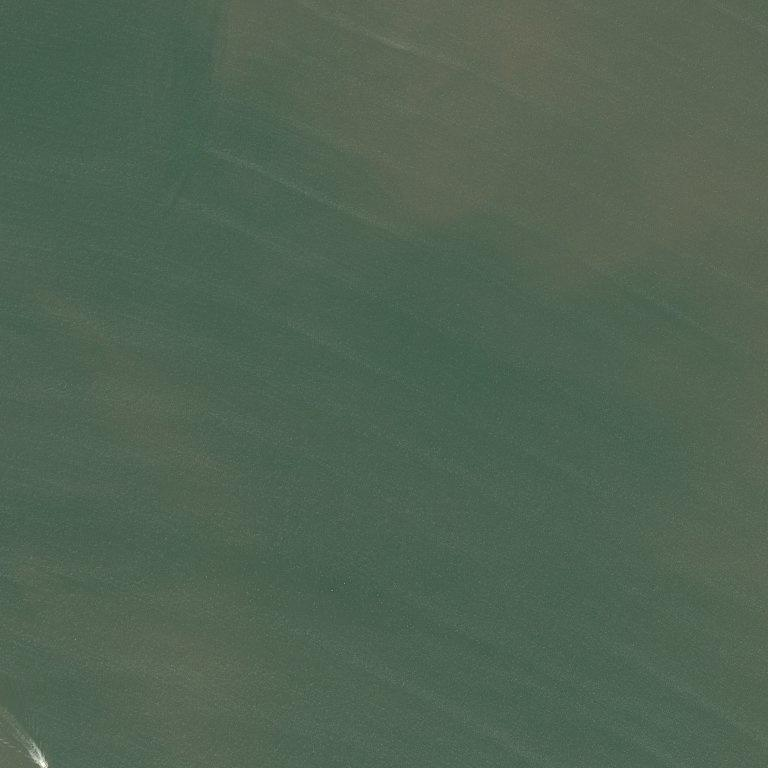ship: (34, 761, 50, 764), (45, 766, 47, 768), (36, 760, 38, 762), (43, 758, 44, 759)
